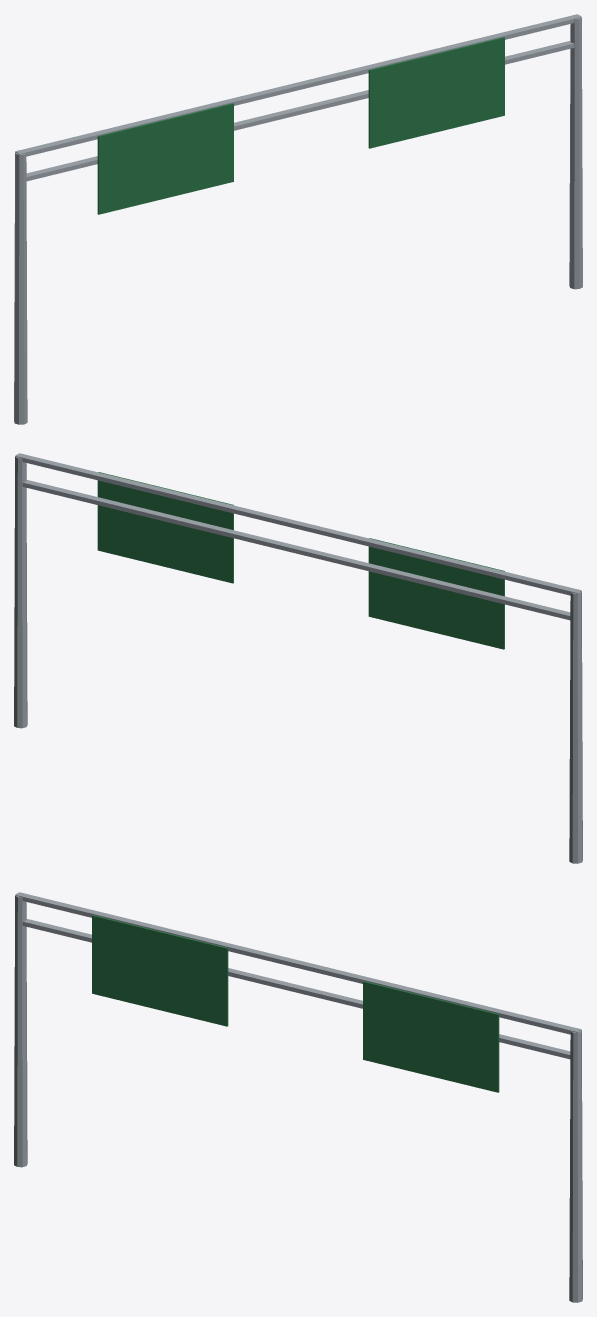
File: Sign_Gantry_Highway_Overhead.glb
The picture shows the model from 3 angles, top to bottom: view 1: azimuth 30°, elevation 25°; view 2: azimuth 150°, elevation 25°; view 3: azimuth 330°, elevation 25°; orthographic projection.
Visible parts, largest first — view 1: Sign_Gantry_Highway_Overhead_Metal, Sign_Gantry_Highway_Overhead_FaceL, Sign_Gantry_Highway_Overhead_FaceR; view 2: Sign_Gantry_Highway_Overhead_Metal, Sign_Gantry_Highway_Overhead_FaceR, Sign_Gantry_Highway_Overhead_FaceL; view 3: Sign_Gantry_Highway_Overhead_Metal, Sign_Gantry_Highway_Overhead_FaceR, Sign_Gantry_Highway_Overhead_FaceL.
Part boxes in pixels (box(x1,y1,x2,y2)): Sign_Gantry_Highway_Overhead_Metal: box(14, 14, 582, 424); Sign_Gantry_Highway_Overhead_FaceL: box(97, 103, 233, 214); Sign_Gantry_Highway_Overhead_FaceR: box(368, 37, 504, 148); Sign_Gantry_Highway_Overhead_Metal: box(14, 453, 582, 863); Sign_Gantry_Highway_Overhead_FaceR: box(97, 472, 233, 583); Sign_Gantry_Highway_Overhead_FaceL: box(368, 538, 504, 649); Sign_Gantry_Highway_Overhead_Metal: box(14, 892, 582, 1302); Sign_Gantry_Highway_Overhead_FaceR: box(363, 981, 499, 1092); Sign_Gantry_Highway_Overhead_FaceL: box(92, 915, 228, 1026).
Bounding box in the file's own units: 16.76 × 7.62 × 0.36.
